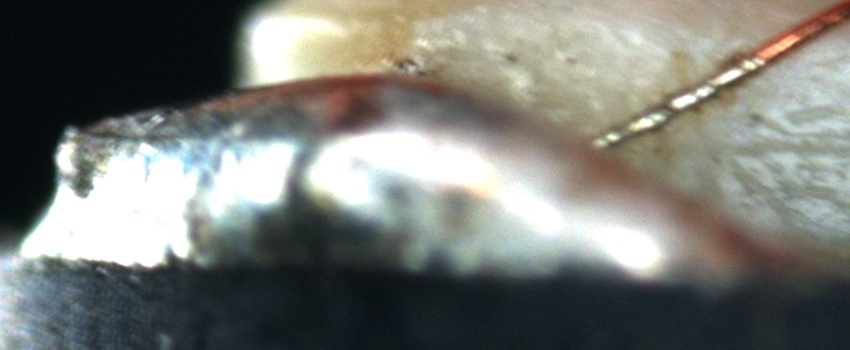DL: (728, 121, 850, 178)
TS: (591, 52, 764, 149)
TTCW: (587, 22, 816, 153)
